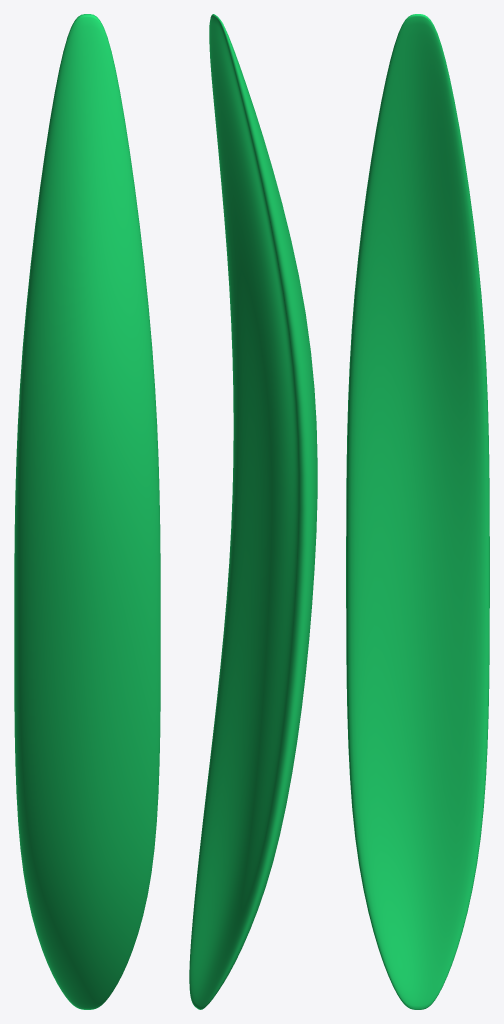
Rendered from Leaf.fbx_Leaf_2.fbx.
3 views of the same model, side by side, from view 1: azimuth 90°, elevation 25°; view 2: azimuth 210°, elevation 25°; view 3: azimuth 270°, elevation 25° (orthographic).
Parts seen in each view (by area): view 1: Leaf2_LOD0; view 2: Leaf2_LOD0; view 3: Leaf2_LOD0.
Boxes of the visible parts, x1,y1,x2,y2 form: Leaf2_LOD0: (14,14,160,1009); Leaf2_LOD0: (189,14,317,1009); Leaf2_LOD0: (346,14,489,1009).
Size of what is drawn, in the model's own units: 192 by 168 by 1452.
